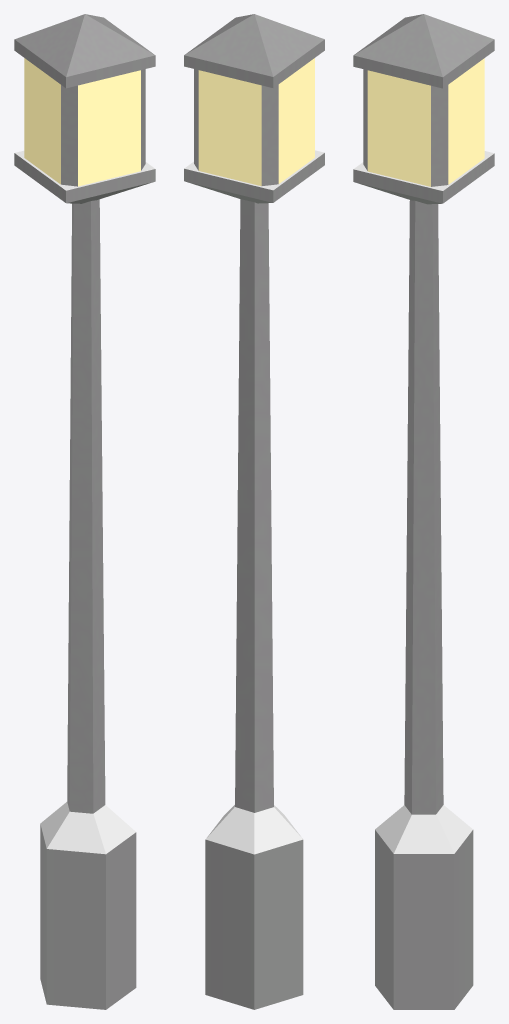
The model's file is stolb.glb.
3 renders of one model, left to right at view 1: azimuth 30°, elevation 25°; view 2: azimuth 150°, elevation 25°; view 3: azimuth 330°, elevation 25°, orthographic.
Visible parts, largest first — view 1: stolb(Clone); view 2: stolb(Clone); view 3: stolb(Clone).
Boxes of the visible parts, x1,y1,x2,y2 form: stolb(Clone): (14,14,155,1009); stolb(Clone): (184,14,324,1009); stolb(Clone): (353,14,494,1009).
Size of the model in its own units: 0.3229 by 3.37 by 0.3229.
1 material, 1 textured.
